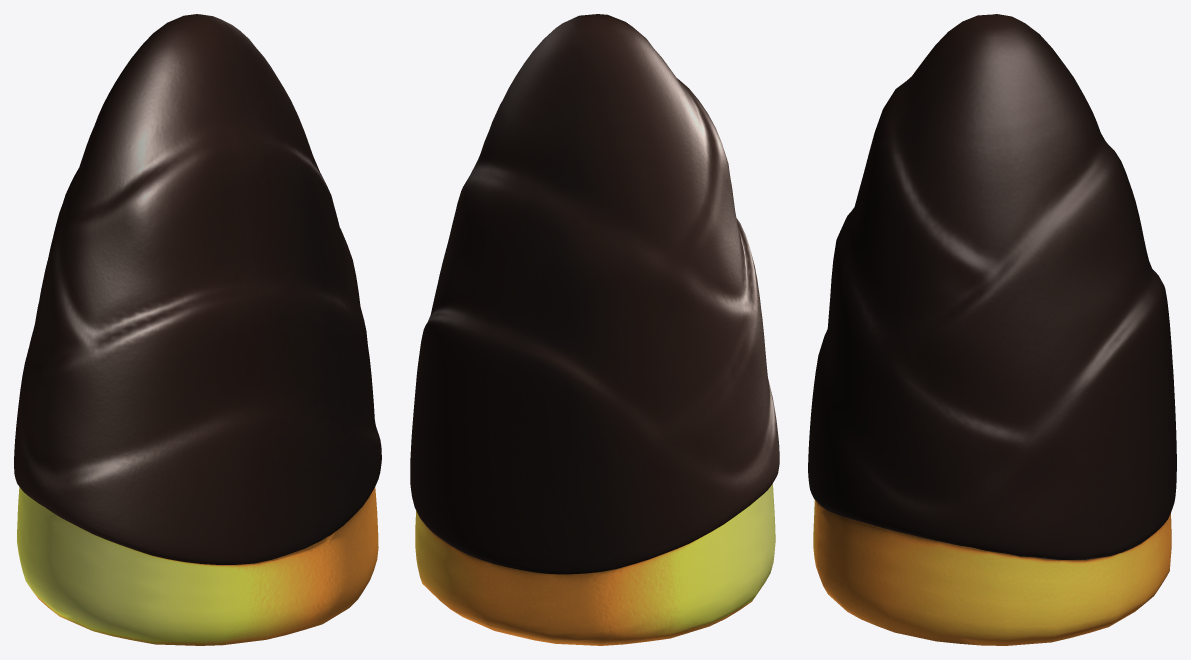
The model's file is bamboo.glb.
3 views of the same model, side by side, from view 1: azimuth 30°, elevation 25°; view 2: azimuth 150°, elevation 25°; view 3: azimuth 270°, elevation 25° (orthographic).
Parts seen in each view (by area): view 1: BambooBase_L_remesh; view 2: BambooBase_L_remesh; view 3: BambooBase_L_remesh.
Boxes of the visible parts, box(x1,y1,x2,y2) form: BambooBase_L_remesh: box(14, 14, 381, 645); BambooBase_L_remesh: box(410, 14, 779, 645); BambooBase_L_remesh: box(808, 14, 1176, 645).
Size of the model in its own units: 0.4803 by 0.8129 by 0.4821.
Materials: 1 (1 with a texture image).
